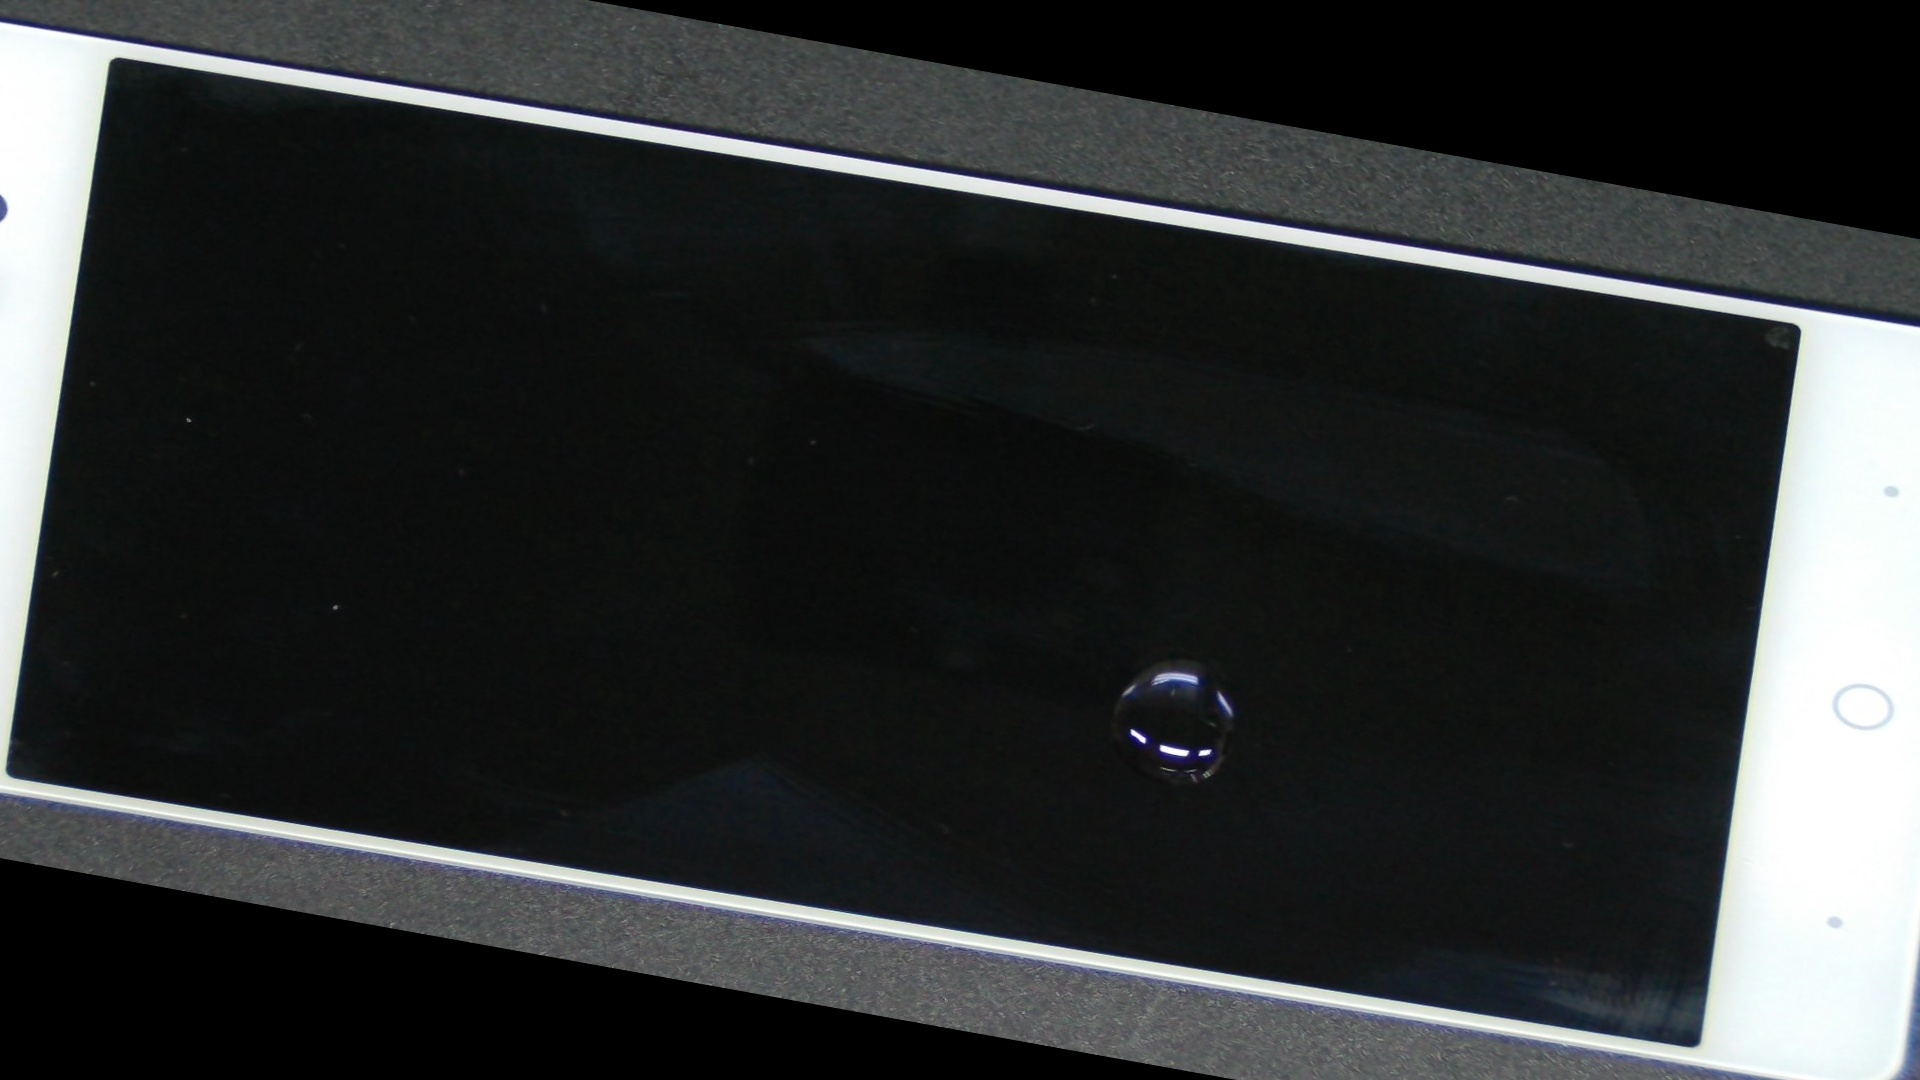oil: (439, 266, 1920, 1058)
